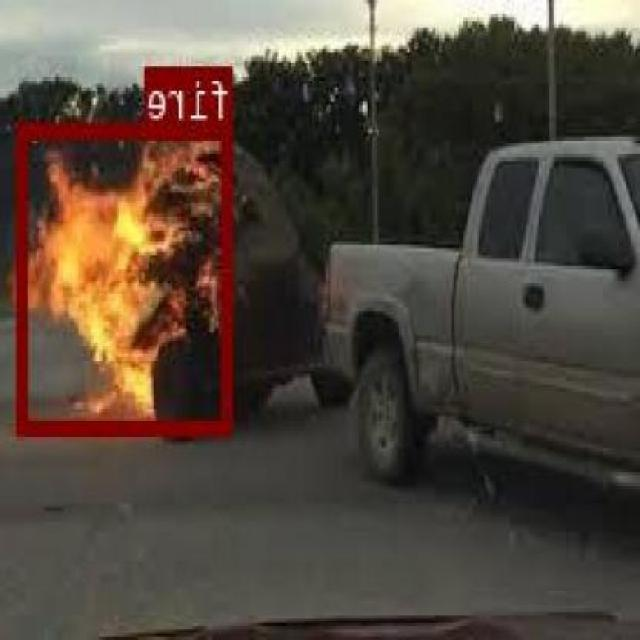Fire: (20, 121, 234, 434)
